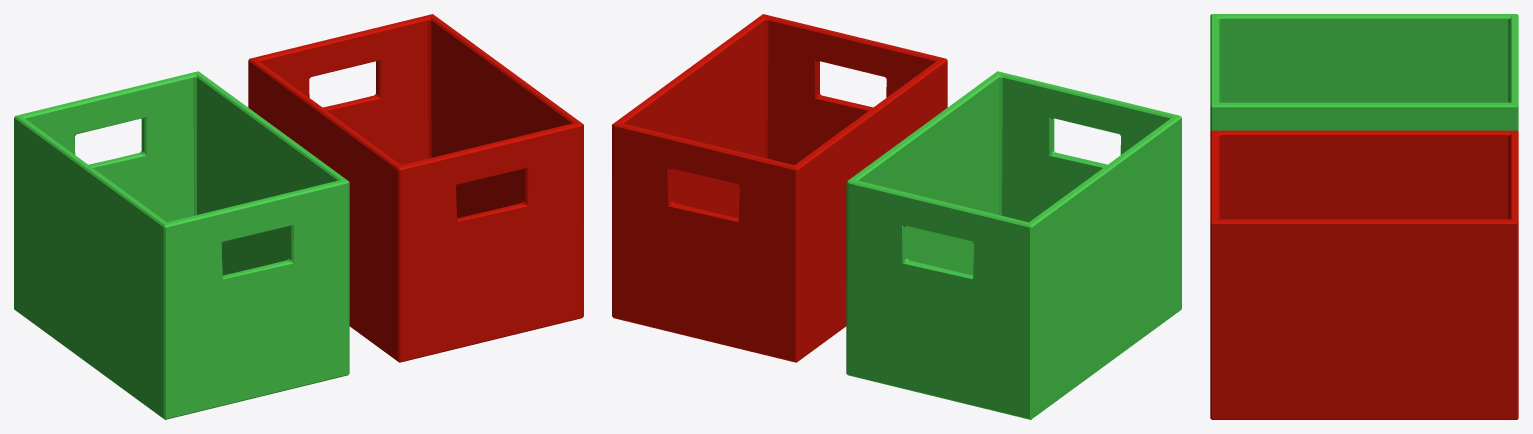
3 renders of one model, left to right at view 1: azimuth 30°, elevation 25°; view 2: azimuth 150°, elevation 25°; view 3: azimuth 270°, elevation 25°, orthographic.
Parts seen in each view (by area): view 1: box_2, box_1; view 2: box_2, box_1; view 3: box_1, box_2.
Boxes of the visible parts, box(x1,y1,x2,y2) form: box_2: box(14, 71, 349, 419); box_1: box(248, 14, 583, 362); box_2: box(846, 71, 1181, 419); box_1: box(612, 14, 947, 362); box_1: box(1210, 130, 1518, 419); box_2: box(1210, 14, 1518, 131).
Bounding box in the file's own units: 0.565 × 0.25 × 0.3524.
